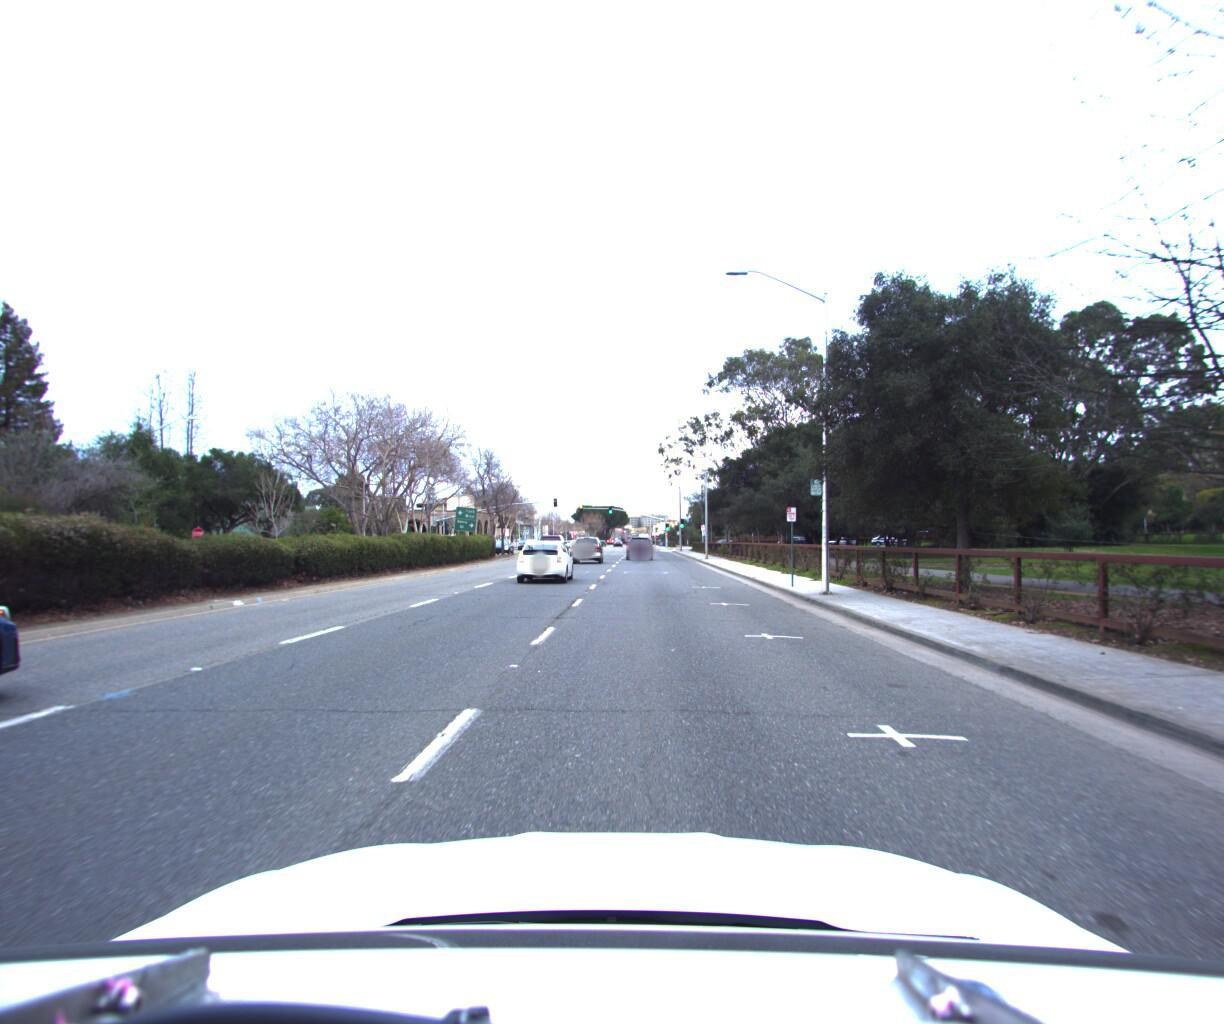car: (0, 523, 59, 837), (513, 533, 577, 580), (571, 529, 604, 558), (625, 532, 653, 556)
